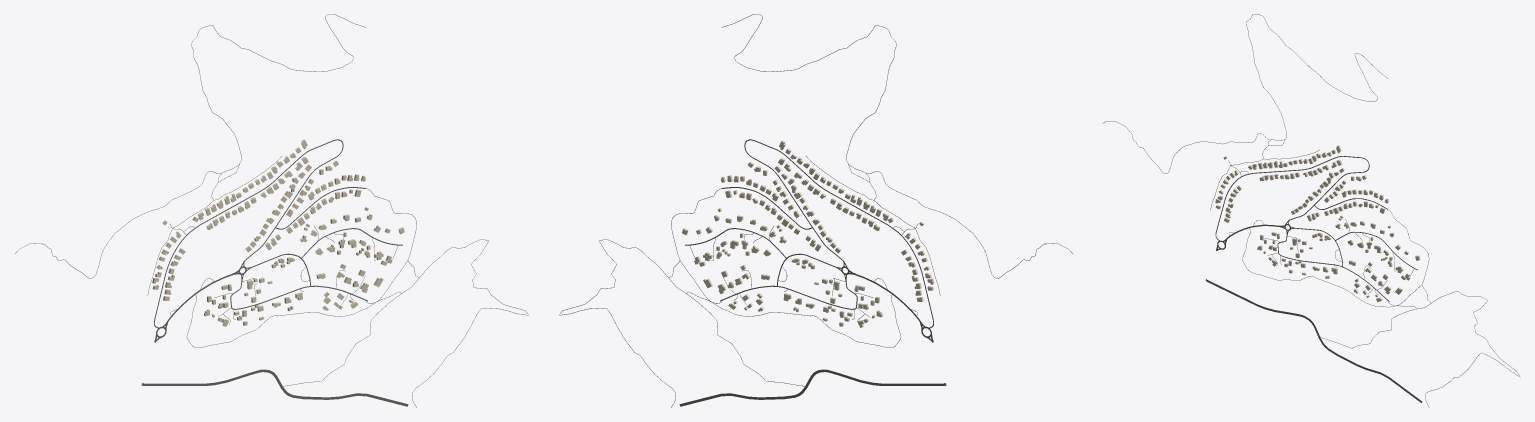
Rendered from historic-palestine-10_36_3524_3303.glb.
3 renders of one model, left to right at view 1: azimuth 30°, elevation 25°; view 2: azimuth 150°, elevation 25°; view 3: azimuth 330°, elevation 25°, orthographic. The views are drawn at different scales.
Visible parts, largest first — view 1: Road 8837, Road .003, Road .031; view 2: Road 8837, Road .003, Road .031; view 3: Road 8837, Road .003, Road .031.
Boxes of the visible parts, x1=… form: Road 8837: x1=141, y1=369, x2=408, y2=406; Road .003: x1=15, y1=14, x2=366, y2=278; Road .031: x1=282, y1=239, x2=528, y2=407; Road 8837: x1=679, y1=369, x2=946, y2=406; Road .003: x1=721, y1=14, x2=1072, y2=278; Road .031: x1=559, y1=239, x2=805, y2=407; Road 8837: x1=1205, y1=279, x2=1422, y2=402; Road .003: x1=1102, y1=14, x2=1387, y2=173; Road .031: x1=1320, y1=291, x2=1520, y2=407.
Size of the model in its own units: 1708 by 1373 by 8.7.
